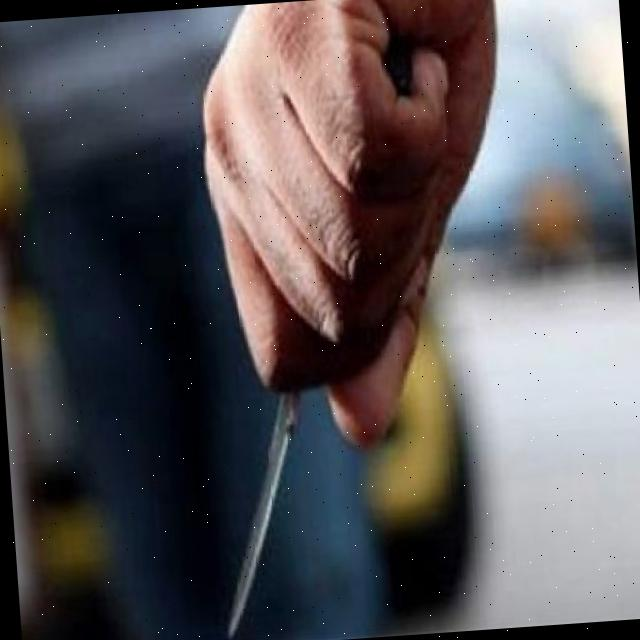Knife: (174, 50, 449, 638)
